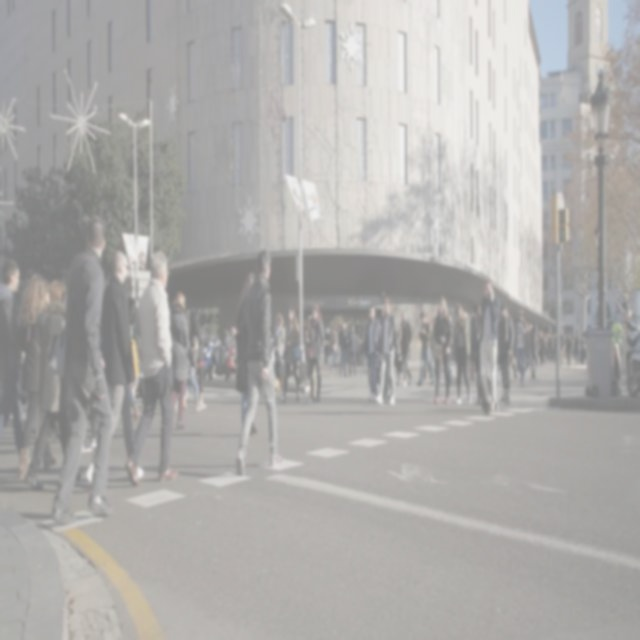pessoa: (49, 211, 116, 528), (82, 246, 146, 494), (124, 249, 182, 488), (233, 245, 284, 478), (22, 274, 72, 494), (14, 270, 60, 486), (0, 256, 29, 483), (234, 269, 257, 436), (474, 274, 500, 416), (526, 321, 586, 378), (374, 293, 402, 408), (170, 290, 190, 432), (430, 292, 453, 407), (278, 302, 302, 404), (450, 300, 472, 407), (304, 300, 326, 406), (188, 304, 208, 412), (494, 300, 514, 404), (362, 301, 382, 404), (511, 305, 532, 387), (468, 300, 484, 406), (415, 308, 435, 390), (182, 335, 203, 413), (128, 296, 140, 415), (398, 306, 414, 388), (272, 310, 286, 394), (608, 316, 626, 372), (504, 313, 518, 383), (429, 316, 442, 386), (422, 314, 434, 386), (221, 324, 237, 376), (392, 326, 404, 388), (301, 316, 311, 386), (374, 360, 391, 400), (346, 322, 358, 378), (337, 320, 348, 378), (86, 400, 98, 447), (329, 321, 339, 376), (606, 318, 614, 371), (334, 318, 342, 366), (446, 312, 455, 352), (362, 355, 371, 388), (354, 323, 361, 361), (42, 282, 52, 308), (406, 342, 414, 366), (172, 391, 180, 414), (51, 418, 60, 436), (362, 316, 368, 335), (396, 328, 404, 340), (384, 306, 392, 314), (344, 320, 349, 332), (620, 320, 624, 327)
